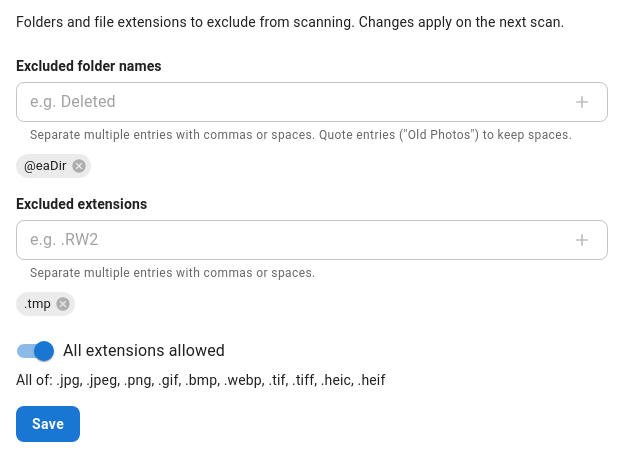
Test: SettingsPage › adds a comma-separated batch of folder names in one go
Type "Thumbs.db, .DS_Store" into the field with placeholder "e.g. Deleted" at (288, 102), box [16,82,559,122]
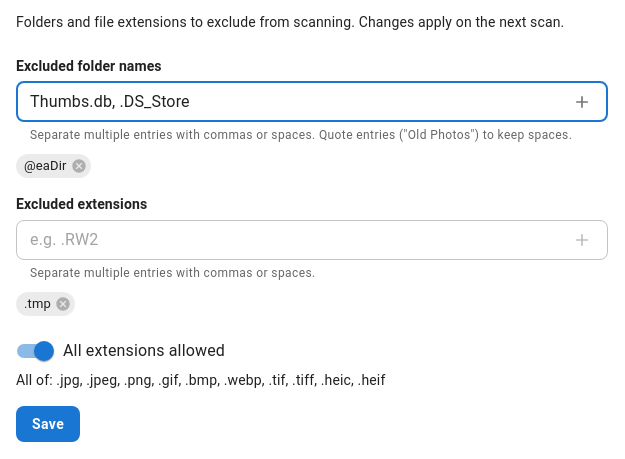
Click the button named "Add to Excluded folder names" at (582, 102), box [567,87,597,117]
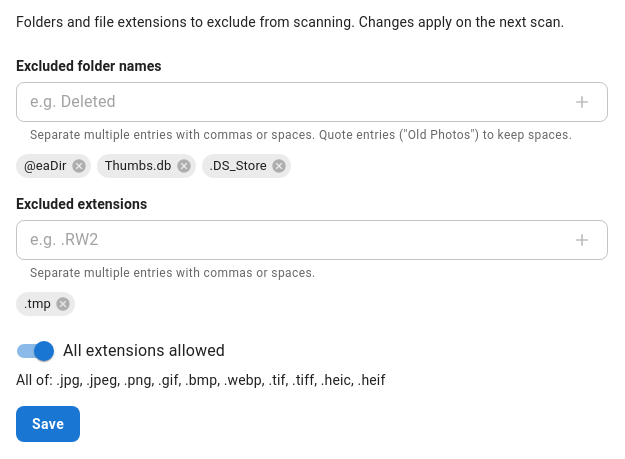
Expected: the text "Thumbs.db" is shown, [105,158,172,173]
Expected: the text ".DS_Store" is shown, [210,158,267,173]
